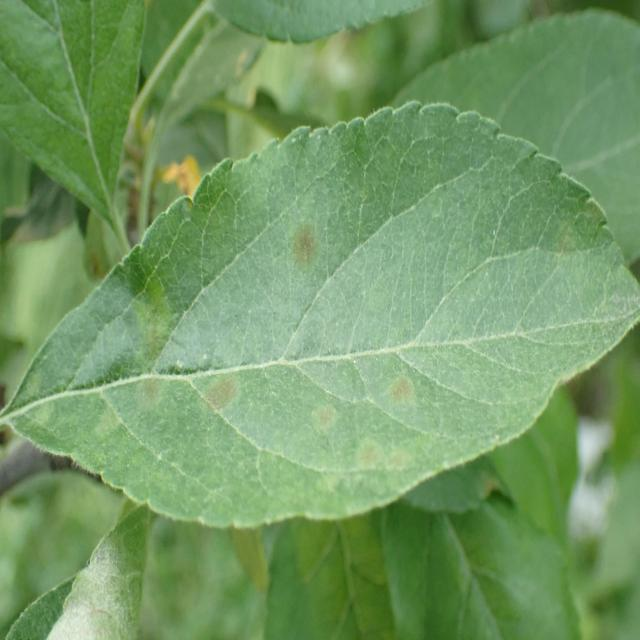scab: (38, 181, 608, 488)
